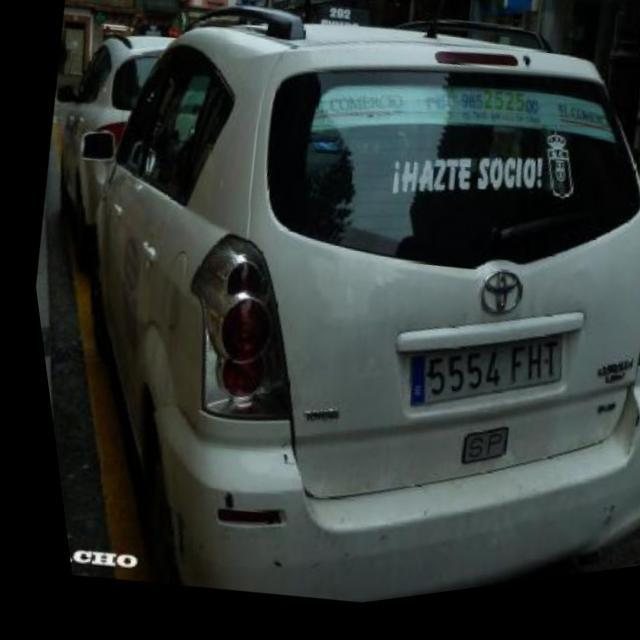license_plate: (385, 315, 563, 448)
